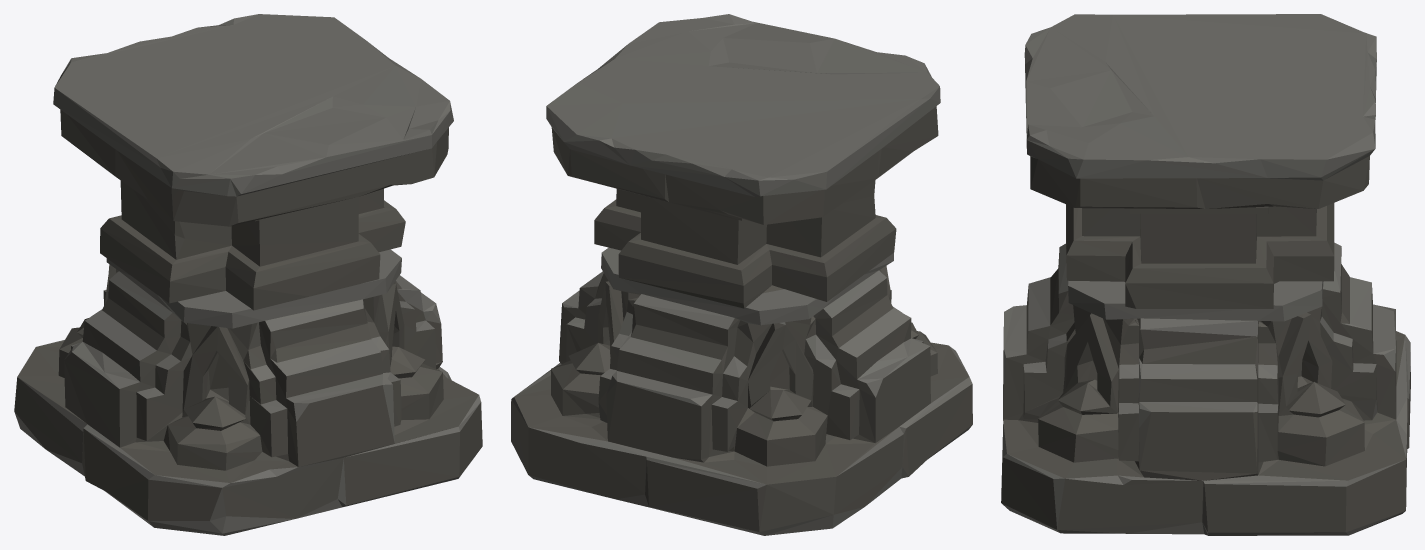
Rendered from MDungeon_PillarPedestal.FBX.
3 views of the same model, side by side, from view 1: azimuth 30°, elevation 25°; view 2: azimuth 150°, elevation 25°; view 3: azimuth 270°, elevation 25° (orthographic). The views are drawn at different scales.
Parts seen in each view (by area): view 1: MDungeon_PillarPedestal_LOD0; view 2: MDungeon_PillarPedestal_LOD0; view 3: MDungeon_PillarPedestal_LOD0.
Boxes of the visible parts, <box> form: MDungeon_PillarPedestal_LOD0: <box>14,14,482,535</box>; MDungeon_PillarPedestal_LOD0: <box>511,14,972,535</box>; MDungeon_PillarPedestal_LOD0: <box>1001,14,1410,535</box>.
Size of what is drawn, in the model's own units: 3.06 by 3.03 by 3.06.
